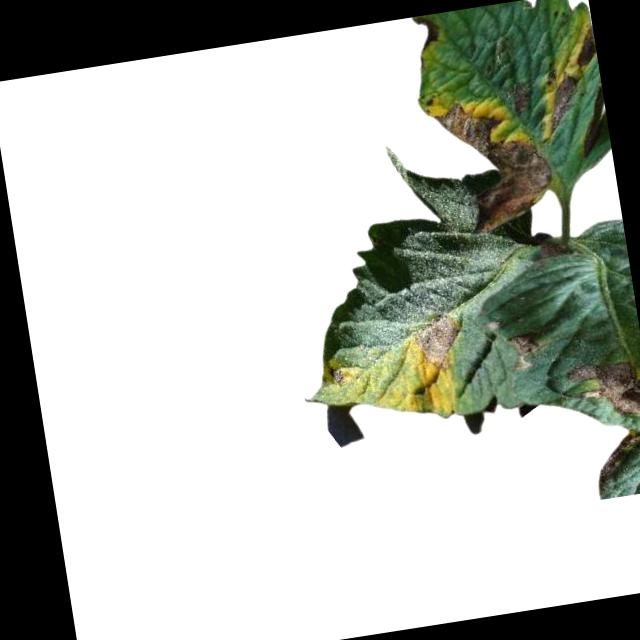Early_blight: (431, 85, 560, 242), (565, 352, 640, 483), (409, 311, 467, 376), (541, 72, 588, 139), (508, 331, 543, 371), (410, 13, 442, 53), (572, 27, 598, 69), (324, 363, 348, 390)
